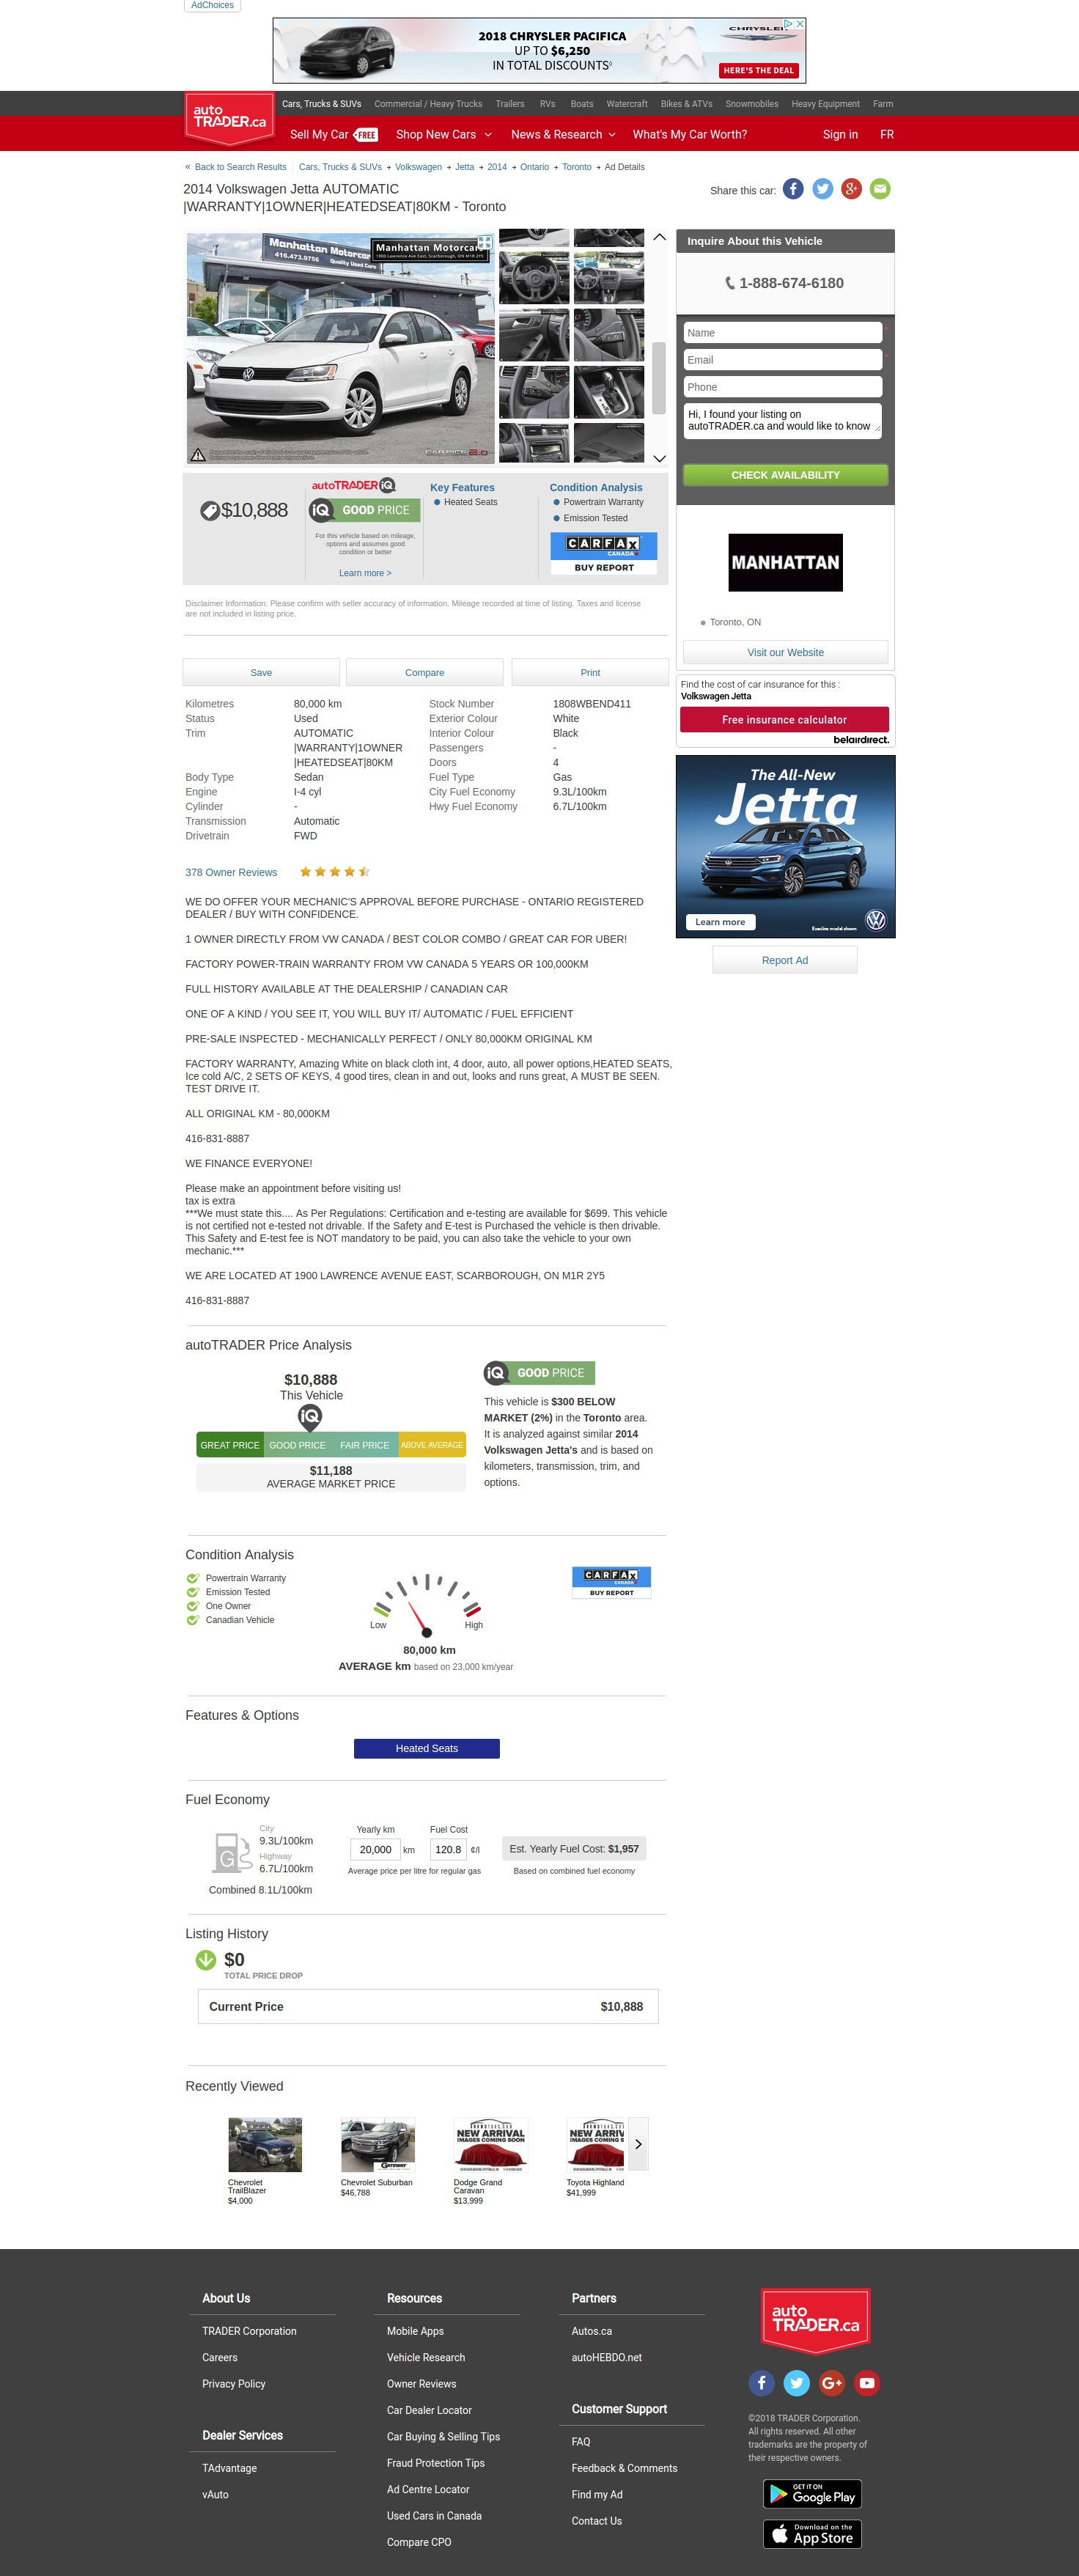car: (654, 453, 667, 468)
